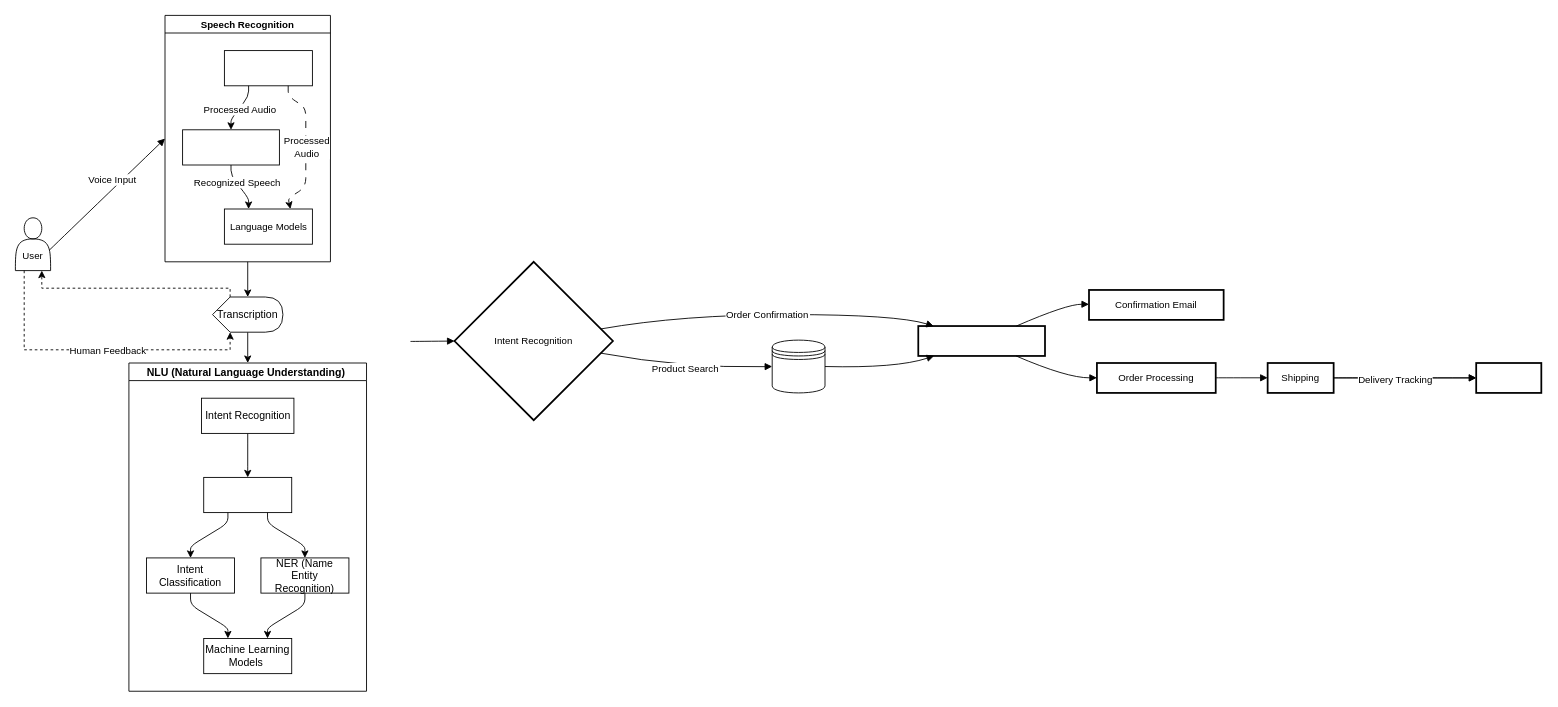
The diagram is 1558 pixels wide and 707 high, and some of its shapes have lost their labels. Each missing label, with the centre of its shape:
"Audio Processing" goes at (268,68).
"Databse" goes at (798,366).
"Delivery" goes at (1508,377).
"Entity Extraction" goes at (247,495).
"Payment Gateway" goes at (981,340).
"Speech Recognition Algorithms" goes at (230,147).
